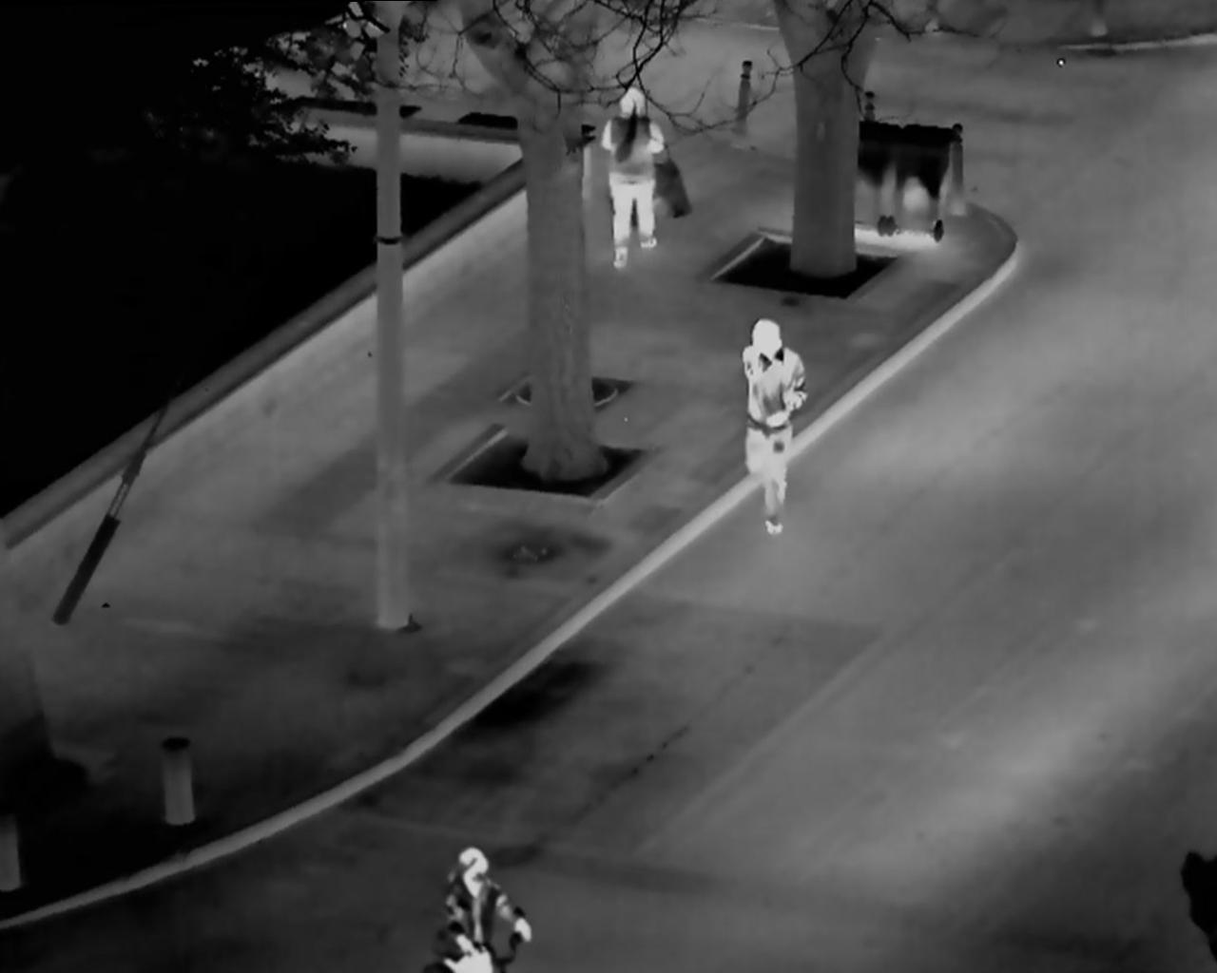person: (724, 303, 816, 550), (421, 834, 537, 973), (594, 76, 670, 266)
